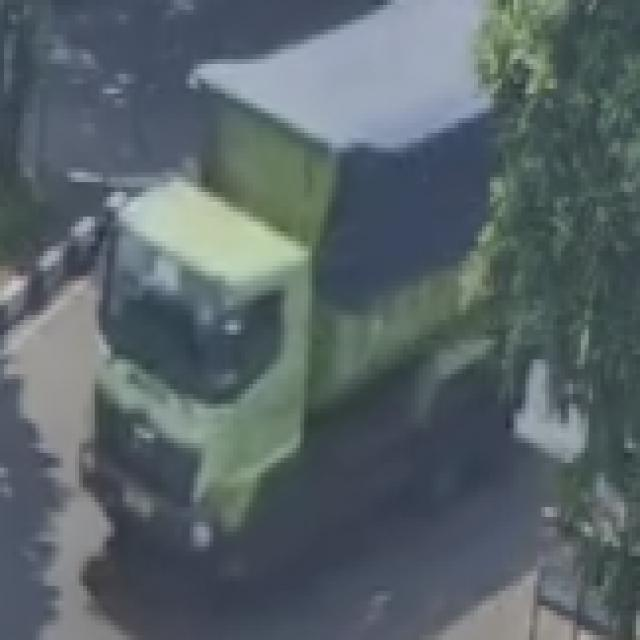Truck: (73, 70, 362, 600)
